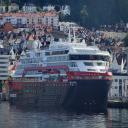cruises: (9, 27, 114, 112)
